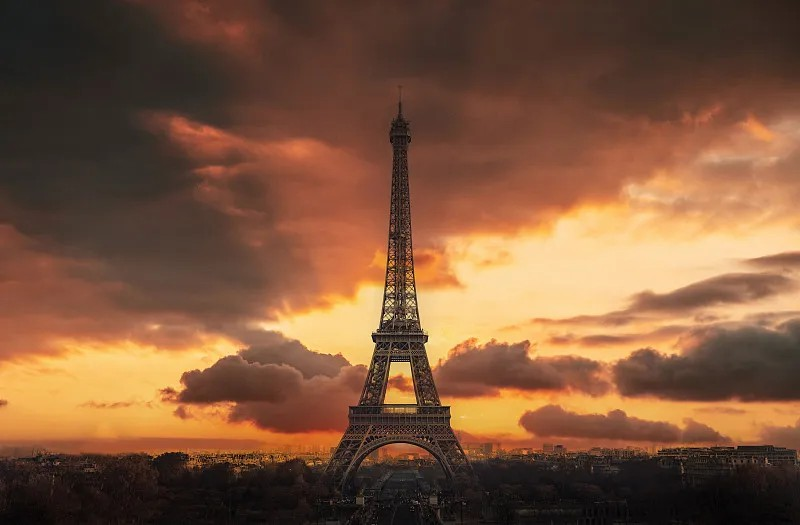Eiffel: (309, 86, 487, 502)
